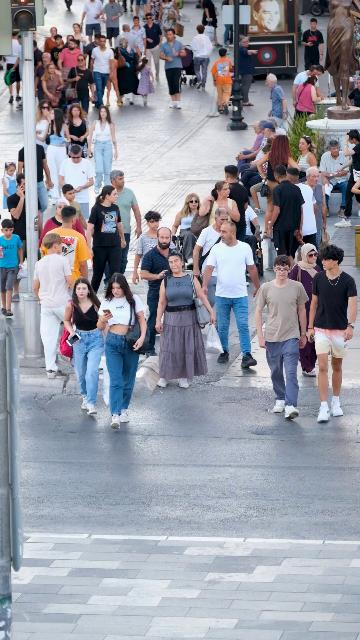person: (253, 255, 311, 420), (307, 245, 359, 423), (201, 219, 260, 368), (155, 249, 216, 389), (95, 273, 148, 429), (34, 232, 76, 380), (63, 278, 106, 415), (140, 227, 181, 357), (288, 244, 324, 379), (86, 185, 128, 297), (256, 135, 299, 240), (265, 165, 306, 266), (39, 206, 93, 282), (106, 170, 143, 276), (192, 208, 229, 307), (36, 108, 71, 199), (59, 145, 96, 224), (87, 105, 118, 197), (38, 198, 86, 257), (285, 167, 317, 255), (6, 174, 44, 248), (133, 210, 169, 286), (334, 129, 360, 229), (238, 123, 277, 189), (319, 139, 352, 216), (0, 219, 25, 319), (238, 143, 271, 215), (199, 180, 241, 232), (160, 28, 186, 110), (224, 165, 251, 242), (303, 167, 327, 250), (171, 194, 202, 257), (89, 35, 114, 111), (292, 65, 324, 121), (66, 54, 95, 115), (115, 38, 139, 105), (190, 24, 214, 91), (237, 36, 258, 108), (64, 104, 90, 160), (236, 121, 264, 173), (211, 49, 233, 114), (58, 184, 88, 231), (142, 12, 162, 82), (295, 75, 324, 120), (4, 33, 22, 104), (265, 73, 289, 126), (58, 39, 83, 89), (41, 62, 65, 113), (80, 0, 104, 47), (302, 18, 324, 69), (35, 99, 54, 158), (101, 0, 124, 48), (296, 136, 318, 184), (136, 57, 156, 107), (118, 24, 143, 62), (34, 53, 53, 100), (202, 0, 221, 47), (104, 59, 122, 106), (3, 162, 20, 211), (83, 33, 101, 75), (130, 16, 147, 60), (245, 205, 262, 246), (161, 0, 181, 34), (222, 0, 235, 48), (51, 34, 68, 70), (147, 0, 162, 37), (44, 27, 60, 55), (33, 40, 43, 82), (347, 76, 360, 108), (134, 0, 149, 26), (72, 24, 84, 53), (269, 118, 286, 136), (33, 32, 45, 52), (67, 35, 79, 49), (122, 0, 133, 13)
